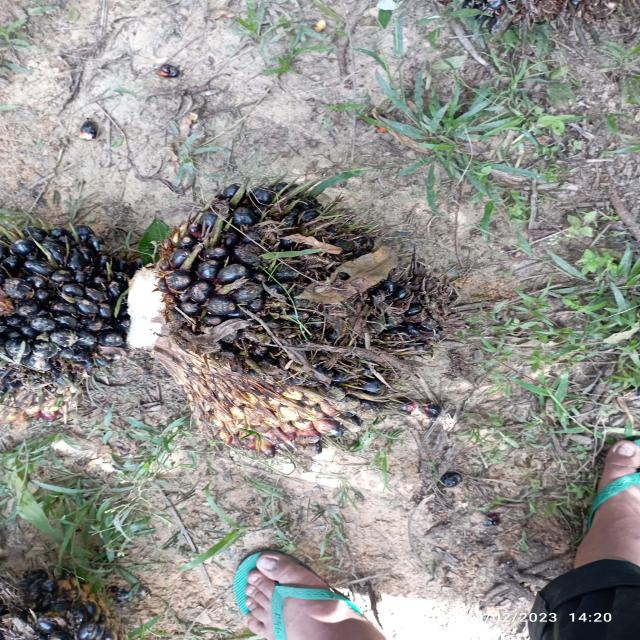fraksi 00: (123, 152, 433, 475), (4, 199, 144, 386)
